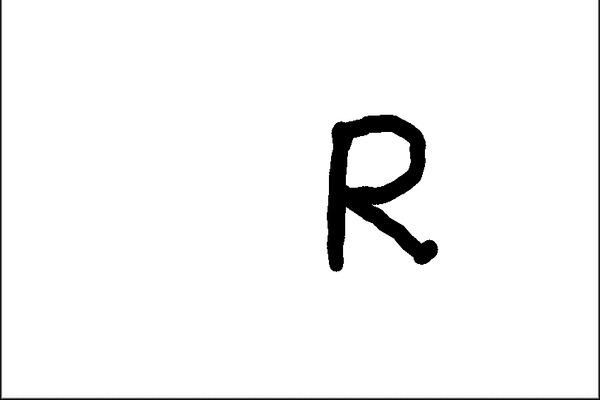R: (302, 111, 461, 278)
